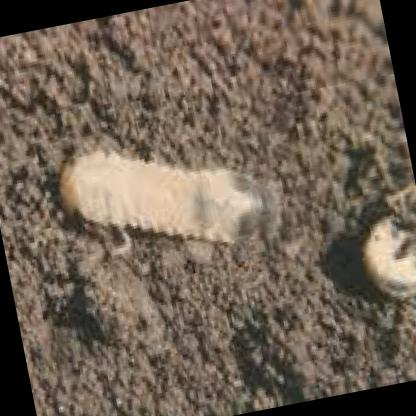root grubs: (58, 149, 278, 246)
